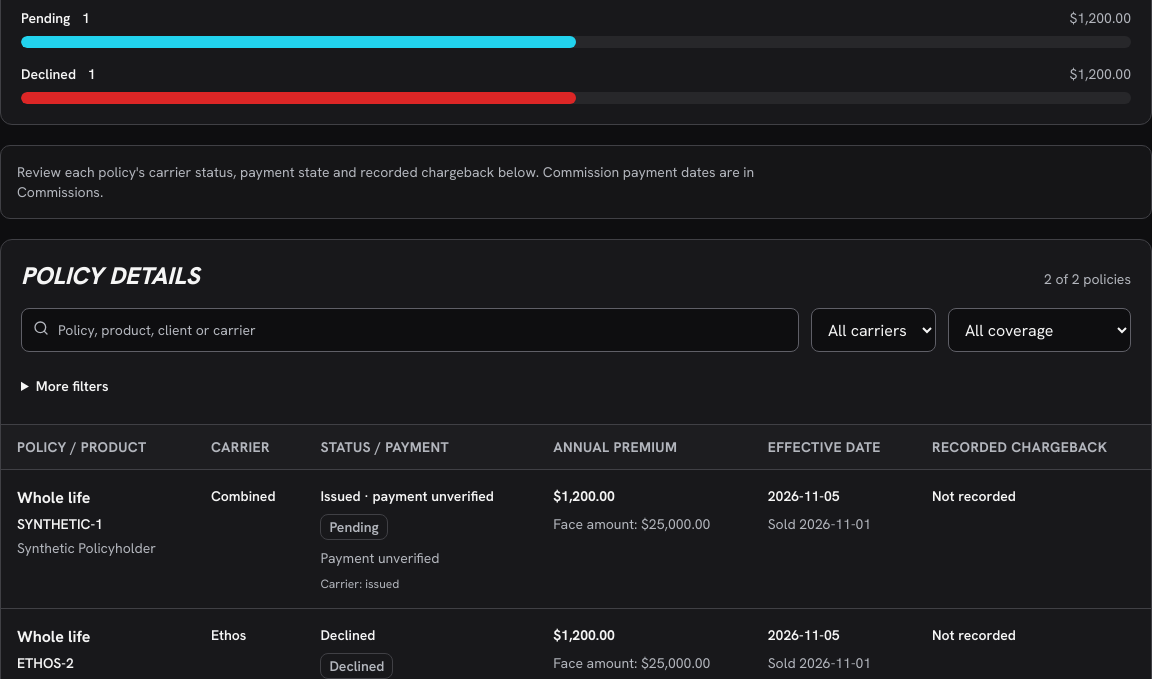
Scenario: personal financial policy book › filters all returned carriers and restores the complete book after no matches
(page scrolled)
Select "Ethos" in the dropdown named "Policy carrier": (874, 330) x1=811 y1=308 x2=936 y2=352
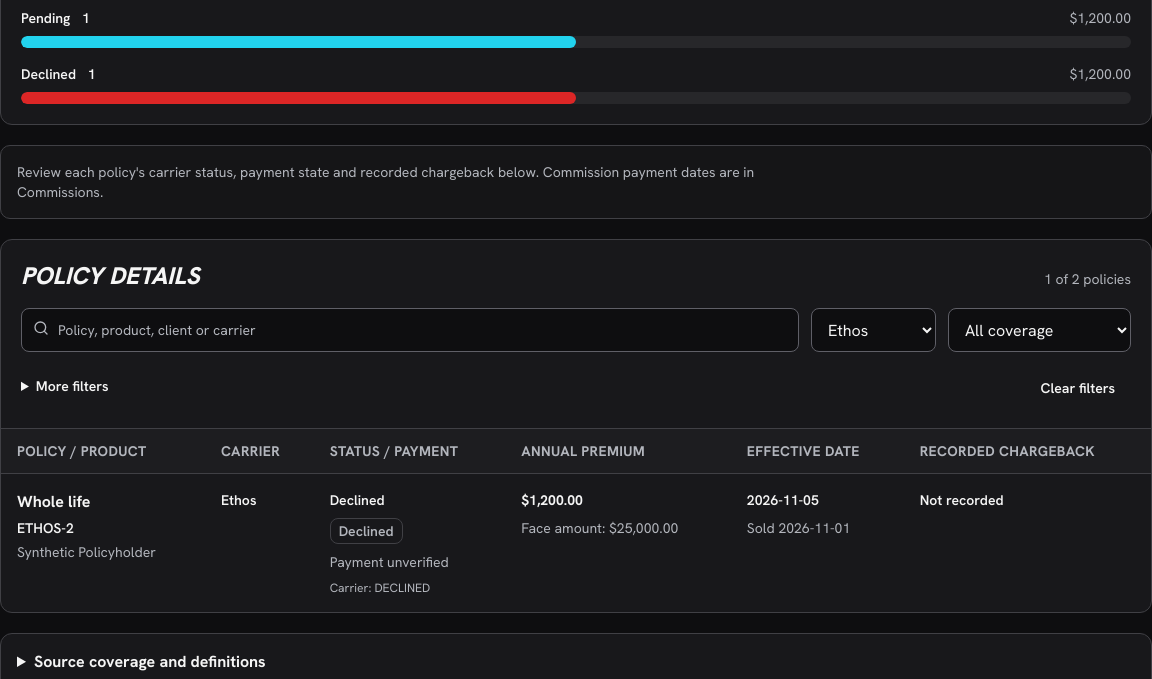
Expected: the text "ETHOS-2" is shown, x1=17 y1=519 x2=74 y2=537
Now the text "SYNTHETIC-1" is gone
In the field named "Search your policies": (410, 330) x1=21 y1=308 x2=799 y2=352, type "missing-policy"
(page scrolled)
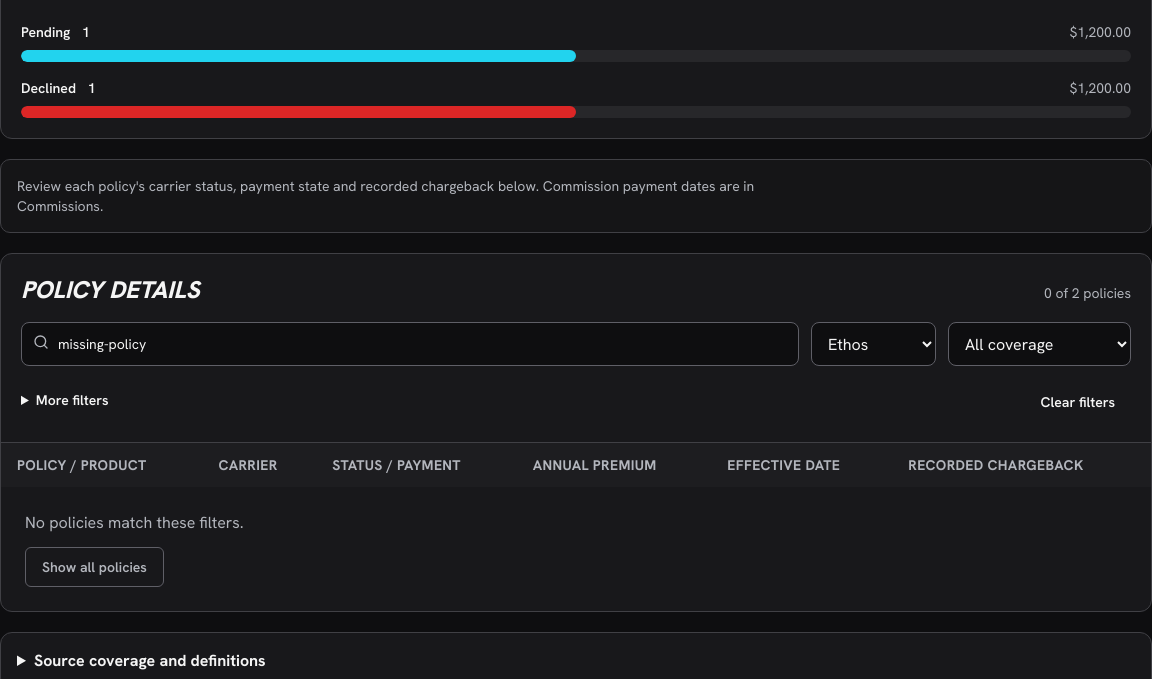
Now the text "No policies match these filters." is shown, box x1=25 y1=512 x2=244 y2=533
Click the button "Show all policies": (94, 567) x1=25 y1=547 x2=164 y2=587
(page scrolled)
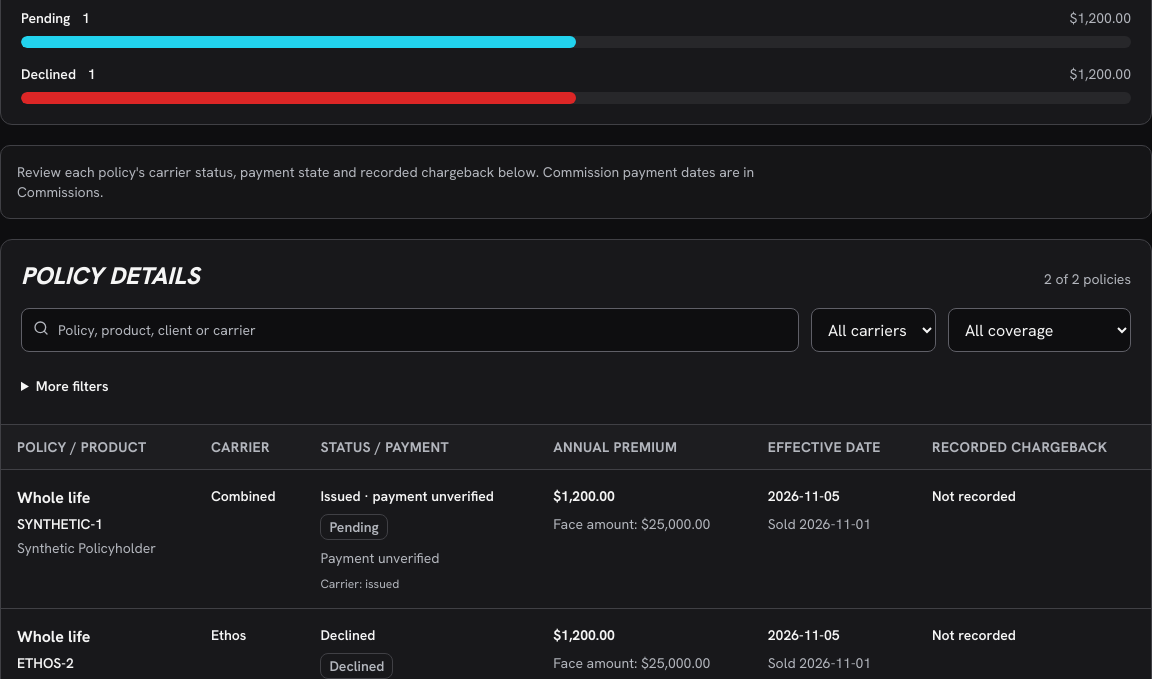
Now the text "2 of 2 policies" is shown, box x1=1044 y1=269 x2=1131 y2=289
Now the text "SYNTHETIC-1" is shown, box x1=17 y1=515 x2=103 y2=533
